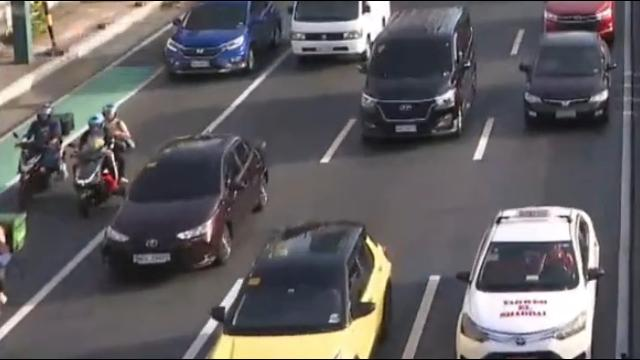car: (206, 221, 393, 360), (98, 132, 270, 272), (455, 205, 608, 360), (521, 31, 619, 131), (163, 0, 286, 79)
motorcycle: (68, 104, 133, 220), (10, 105, 74, 213)
truck: (292, 0, 395, 75)
van: (360, 6, 476, 141)
